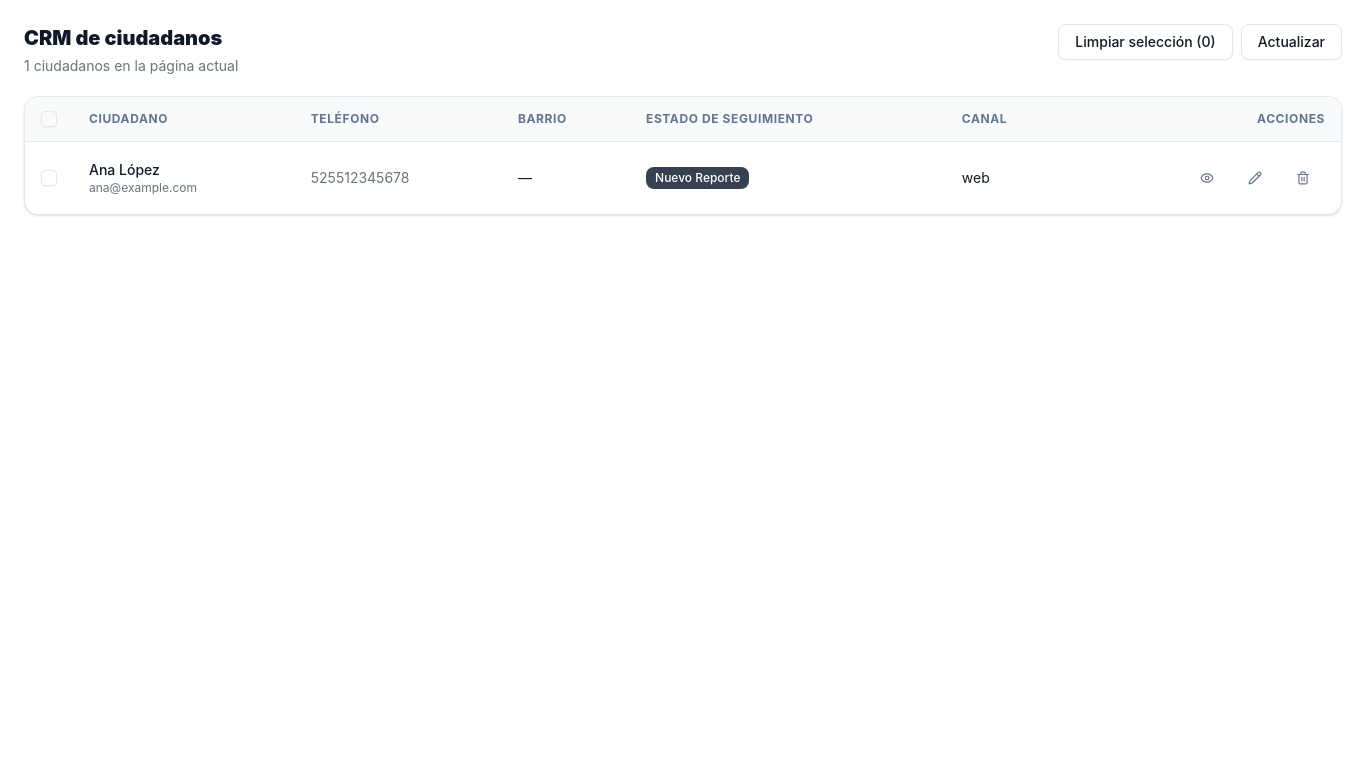
Test: CitizensView actions › asks for confirmation before deletion and removes the row locally
Later steps or results of the test are not shown.
Step 1. Click the button named "Eliminar Ana López" → click(1303, 178), box x1=1281 y1=156 x2=1325 y2=200
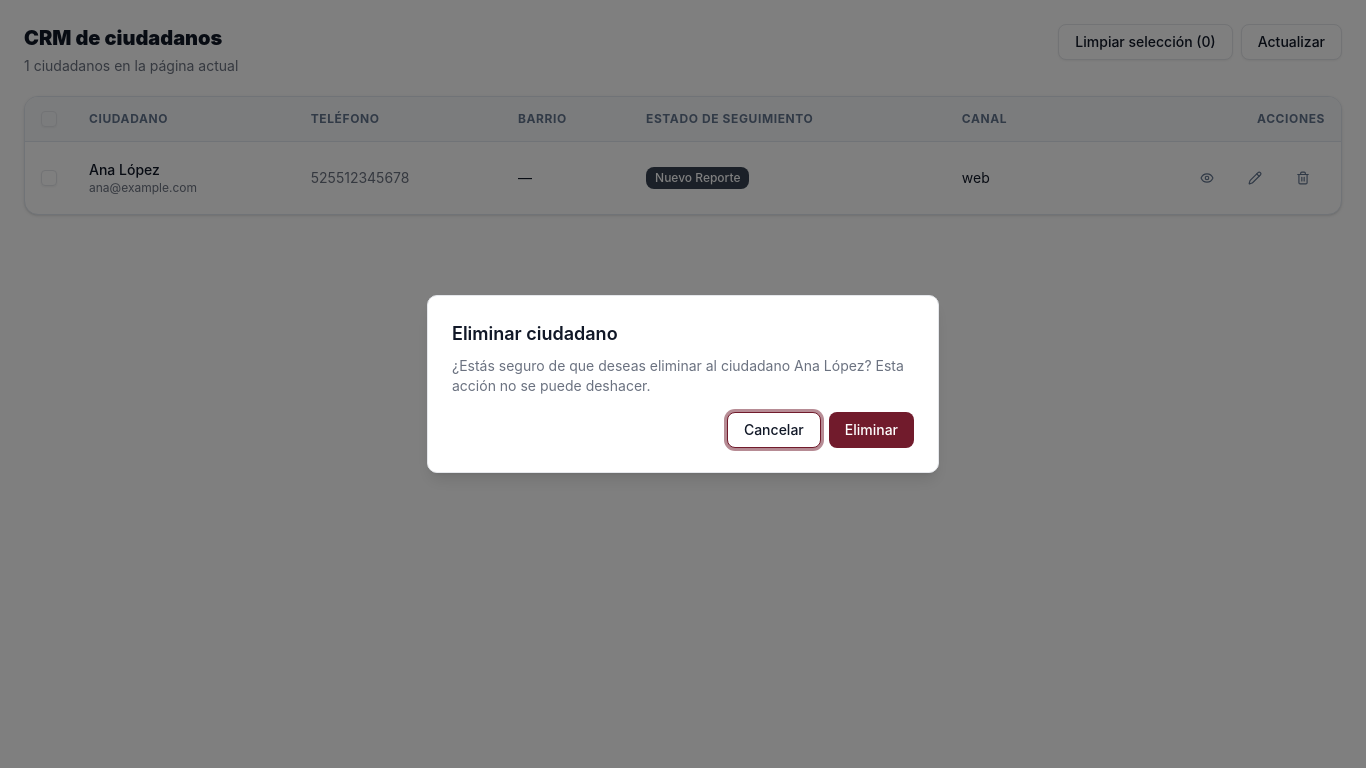
Result: the text "¿Estás seguro de que deseas eliminar al ciudadano Ana López" is shown at x1=452 y1=356 x2=914 y2=396
